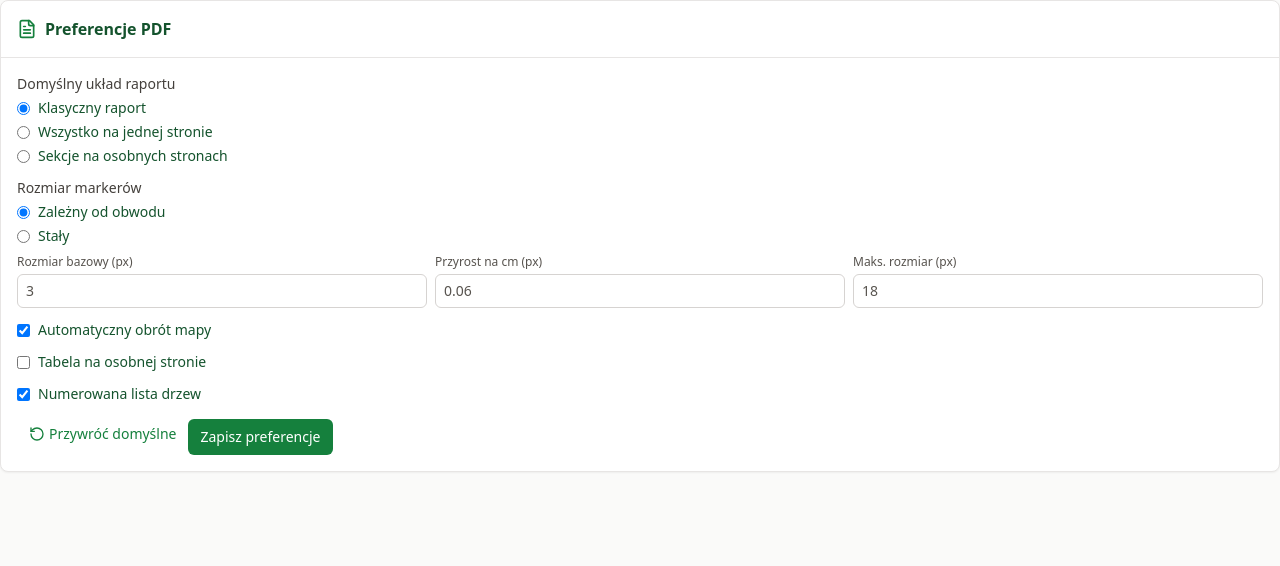
Scenario: PdfPrefsEditor › should persist markerScale through save
Replace the text in the number field with test id "config-marker-base" with "5" at coordinates (222, 291), box x1=17 y1=274 x2=427 y2=308
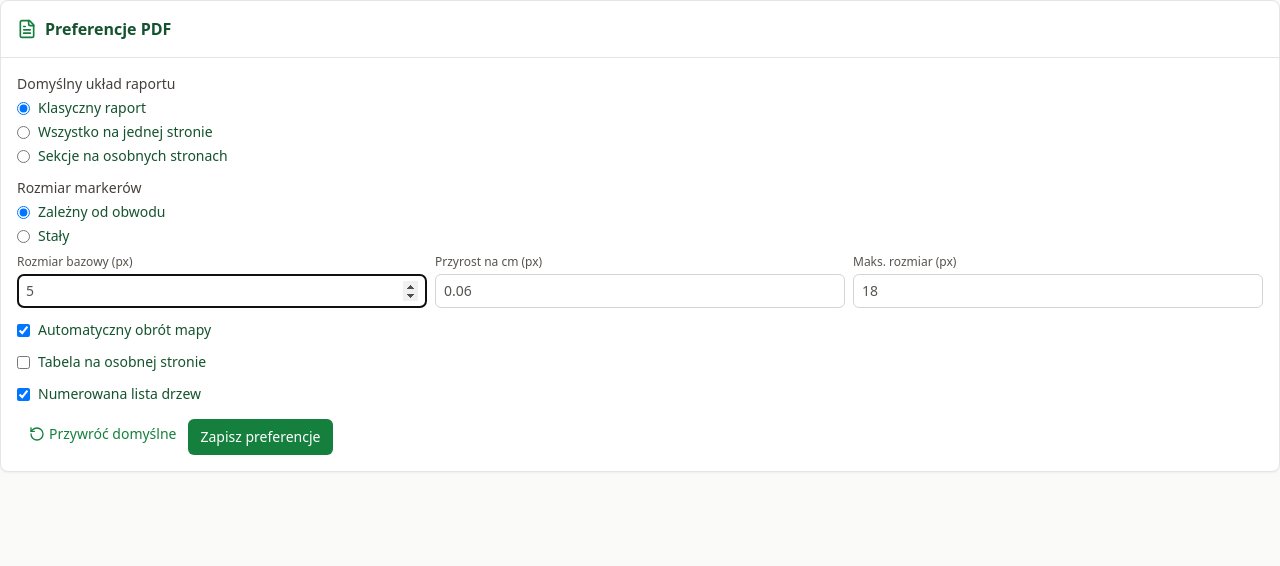
Replace the text in the number field with test id "config-marker-percm" with "0.1" at coordinates (640, 291), box x1=435 y1=274 x2=845 y2=308
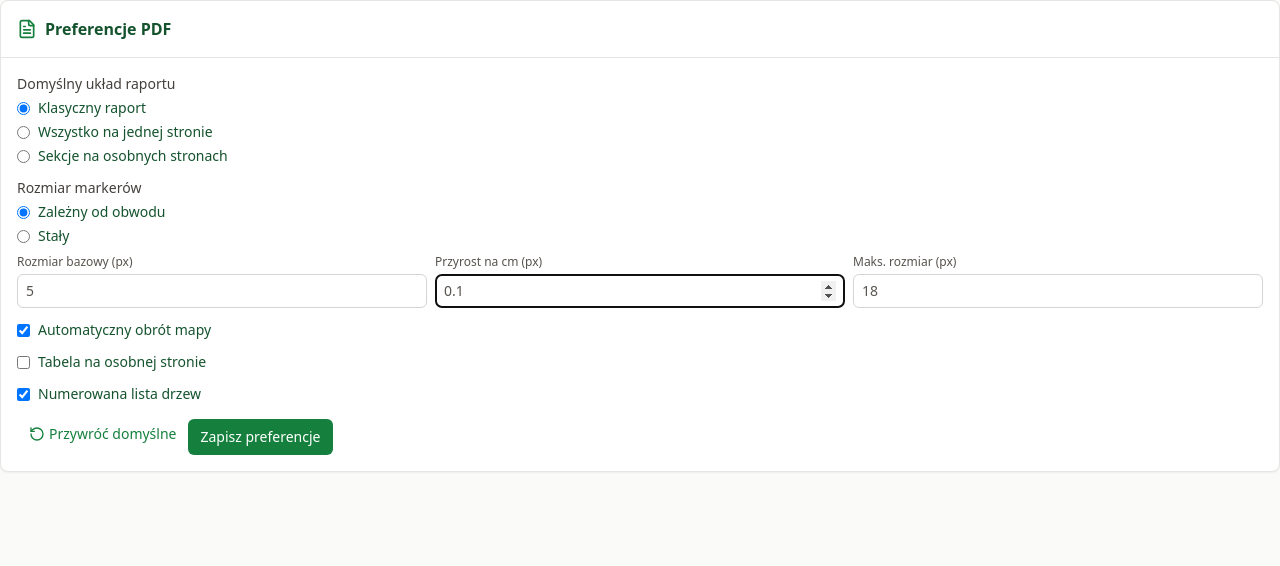
Click the button with test id "pdf-prefs-save" at coordinates (260, 437), box x1=188 y1=419 x2=332 y2=455
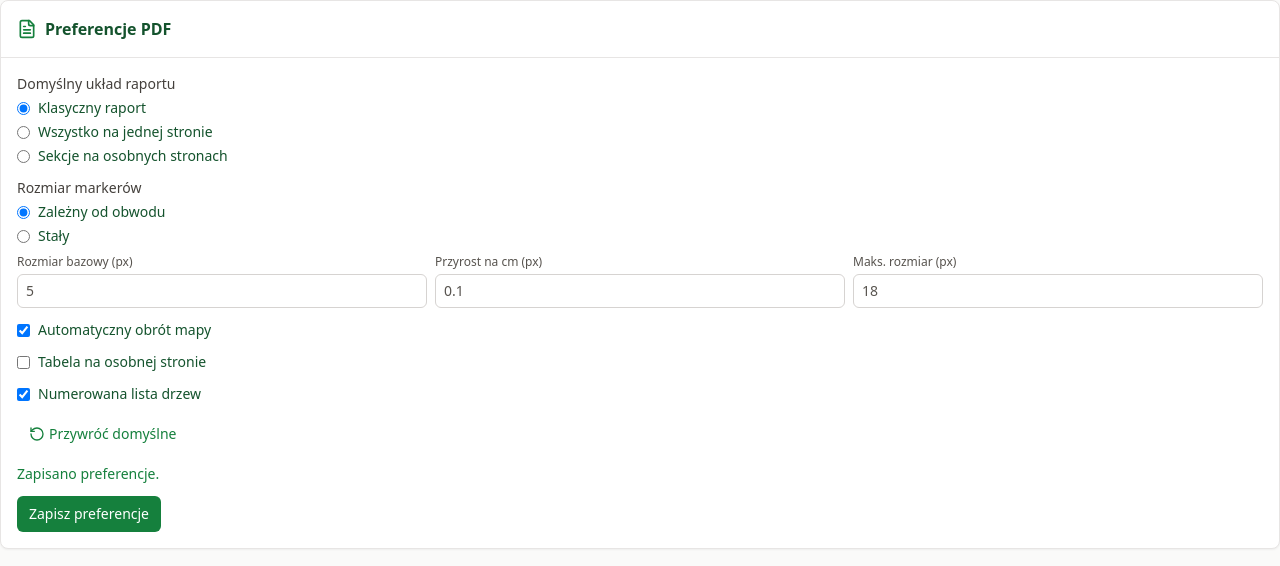
Result: the message "Zapisano preferencje." is shown at x1=17 y1=464 x2=159 y2=483
